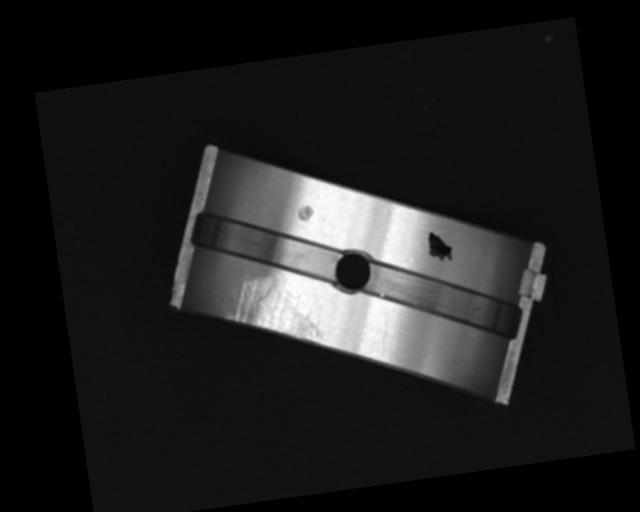blot: (424, 229, 455, 265)
bruise: (295, 204, 315, 224)
gap: (355, 242, 524, 355), (184, 194, 344, 301)
hole: (329, 245, 378, 299)
nick: (375, 316, 396, 358)
scratch: (218, 267, 325, 357)
